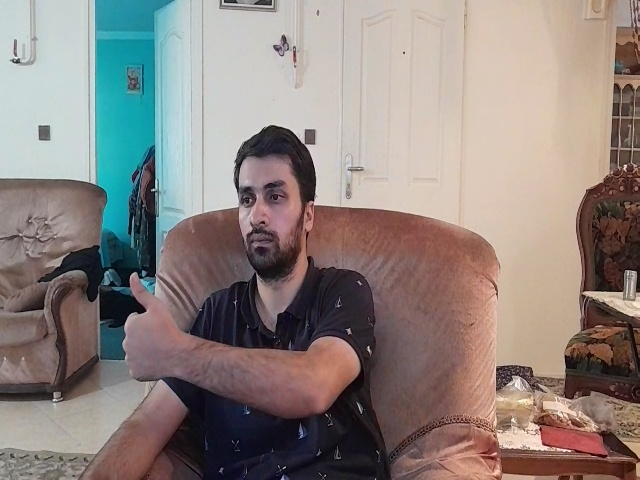ThumbsUp: (121, 271, 183, 386)
